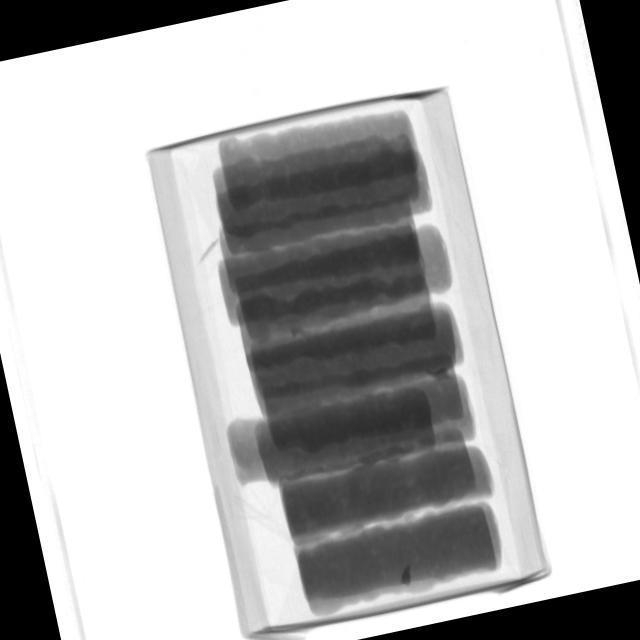ym: (195, 238, 223, 266), (426, 364, 451, 381), (399, 567, 415, 587)
